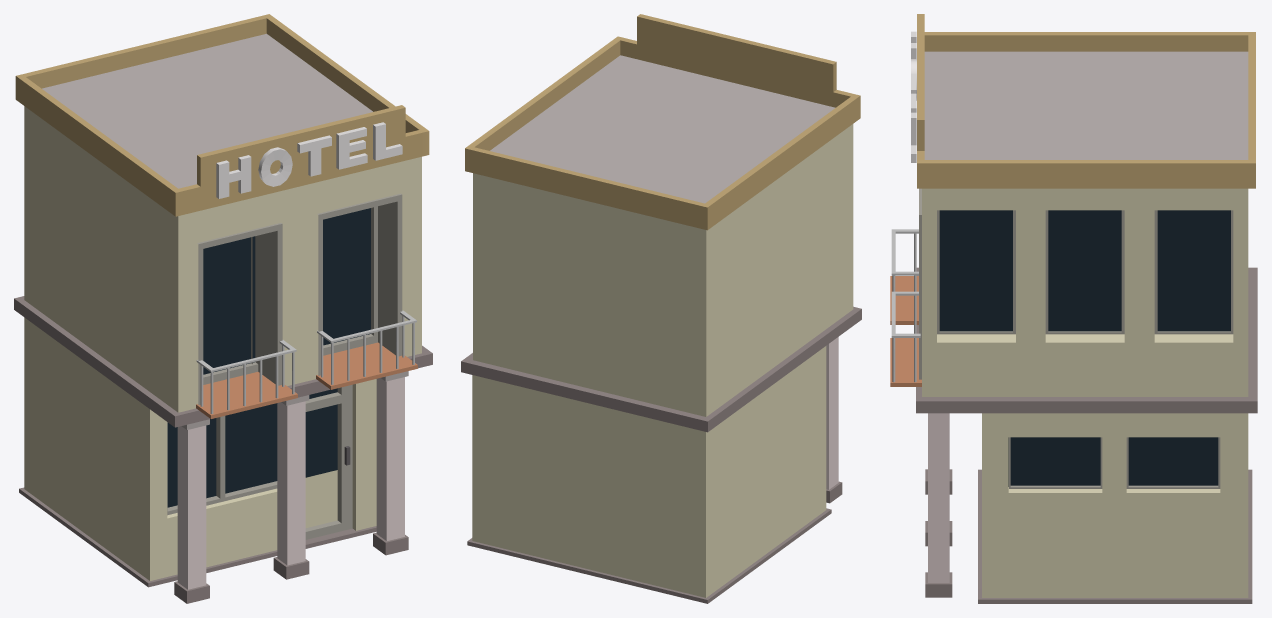
File: hotel_building.fbx
3 views of the same model, side by side, from view 1: azimuth 30°, elevation 25°; view 2: azimuth 150°, elevation 25°; view 3: azimuth 270°, elevation 25° (orthographic). The views are drawn at different scales.
Visible parts, largest first — view 1: Hotel_building; view 2: Hotel_building; view 3: Hotel_building.
Part boxes in pixels (bbox=[...]): Hotel_building: bbox=[14, 14, 432, 603]; Hotel_building: bbox=[461, 14, 861, 603]; Hotel_building: bbox=[890, 14, 1257, 603].
Bounding box in the file's own units: 61.38 × 71.37 × 102.
